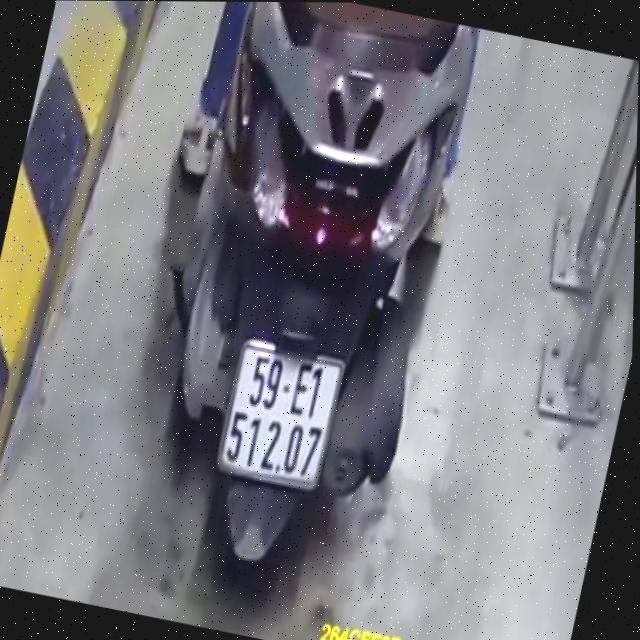motorcycle: (104, 1, 499, 623)
plate: (208, 332, 342, 490)
